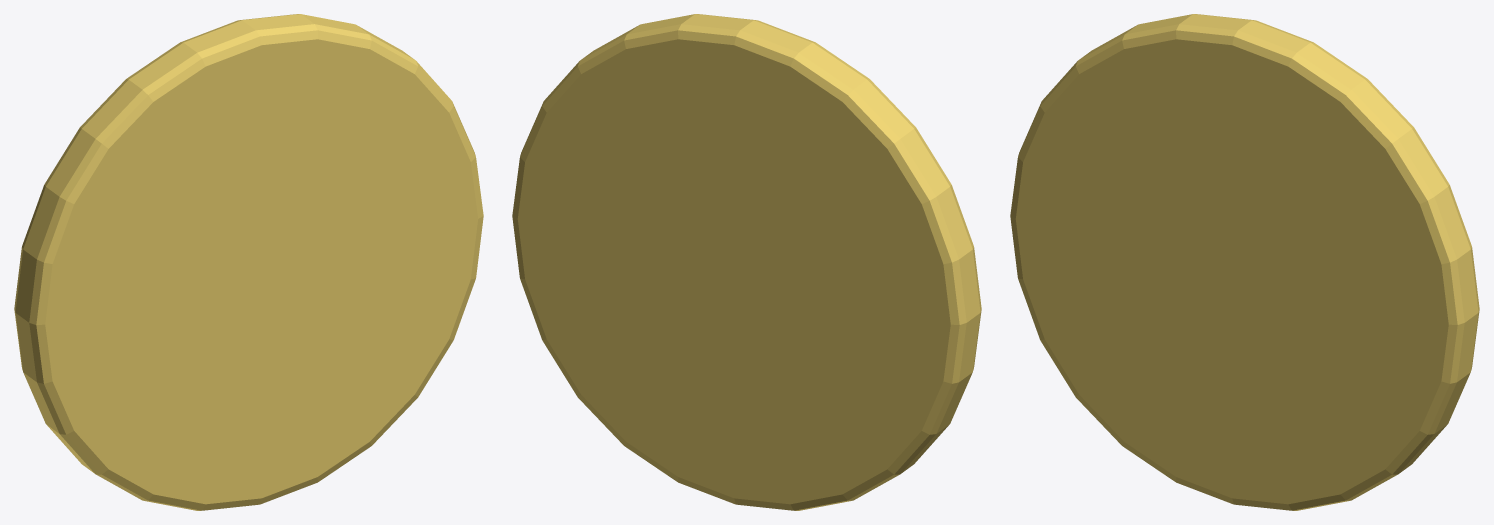
File: sm_prop_coin_gold_01.glb
3 views of the same model, side by side, from view 1: azimuth 30°, elevation 25°; view 2: azimuth 150°, elevation 25°; view 3: azimuth 330°, elevation 25° (orthographic).
Parts seen in each view (by area): view 1: SM_Prop_Coin_Gold_01; view 2: SM_Prop_Coin_Gold_01; view 3: SM_Prop_Coin_Gold_01.
Boxes of the visible parts, box(x1,y1,x2,y2) form: SM_Prop_Coin_Gold_01: box(14, 14, 483, 510); SM_Prop_Coin_Gold_01: box(512, 14, 981, 510); SM_Prop_Coin_Gold_01: box(1010, 14, 1479, 510).
Size of the model in its own units: 0.36 by 0.36 by 0.035.
